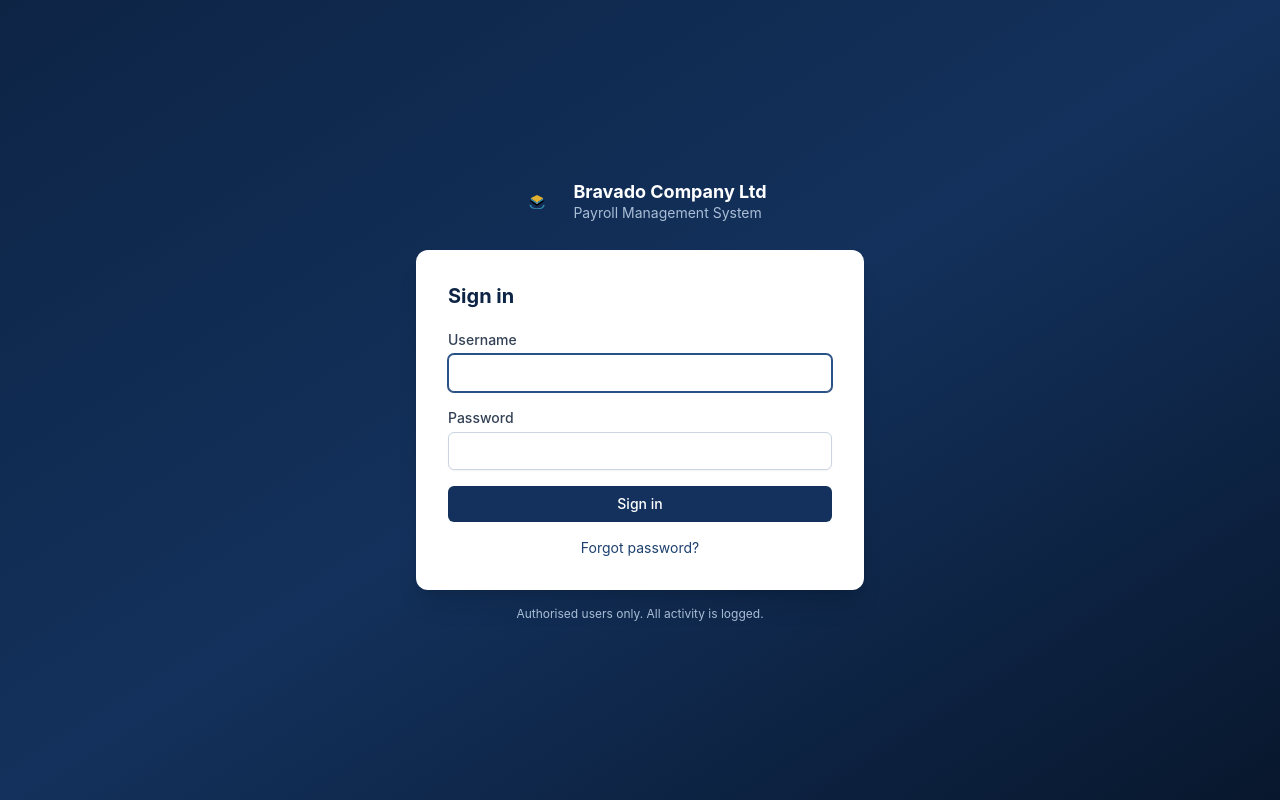
Test: Login page › shows the server error
Type "x" into the field labelled "Username". click: (640, 373)
box: [448, 354, 832, 392]
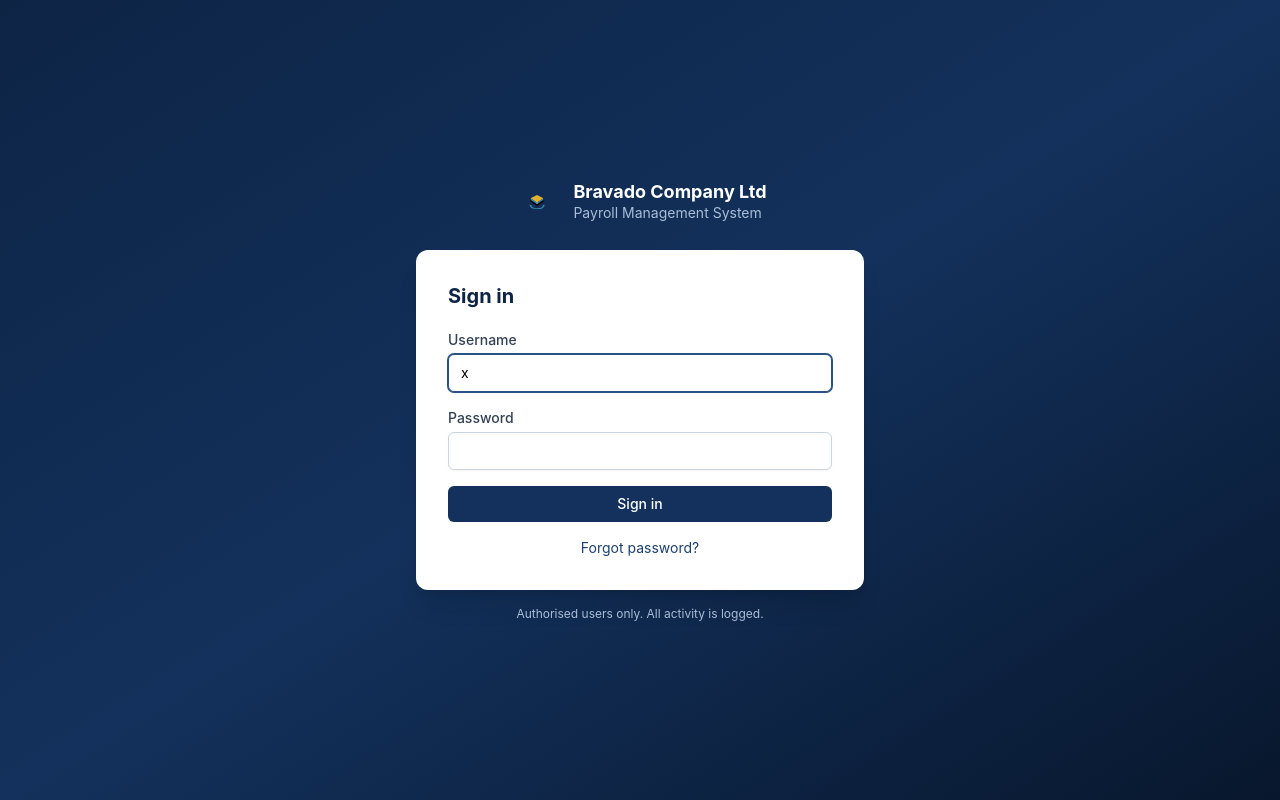
Type "y" into the password field labelled "Password". click: (640, 451)
box: [448, 432, 832, 470]
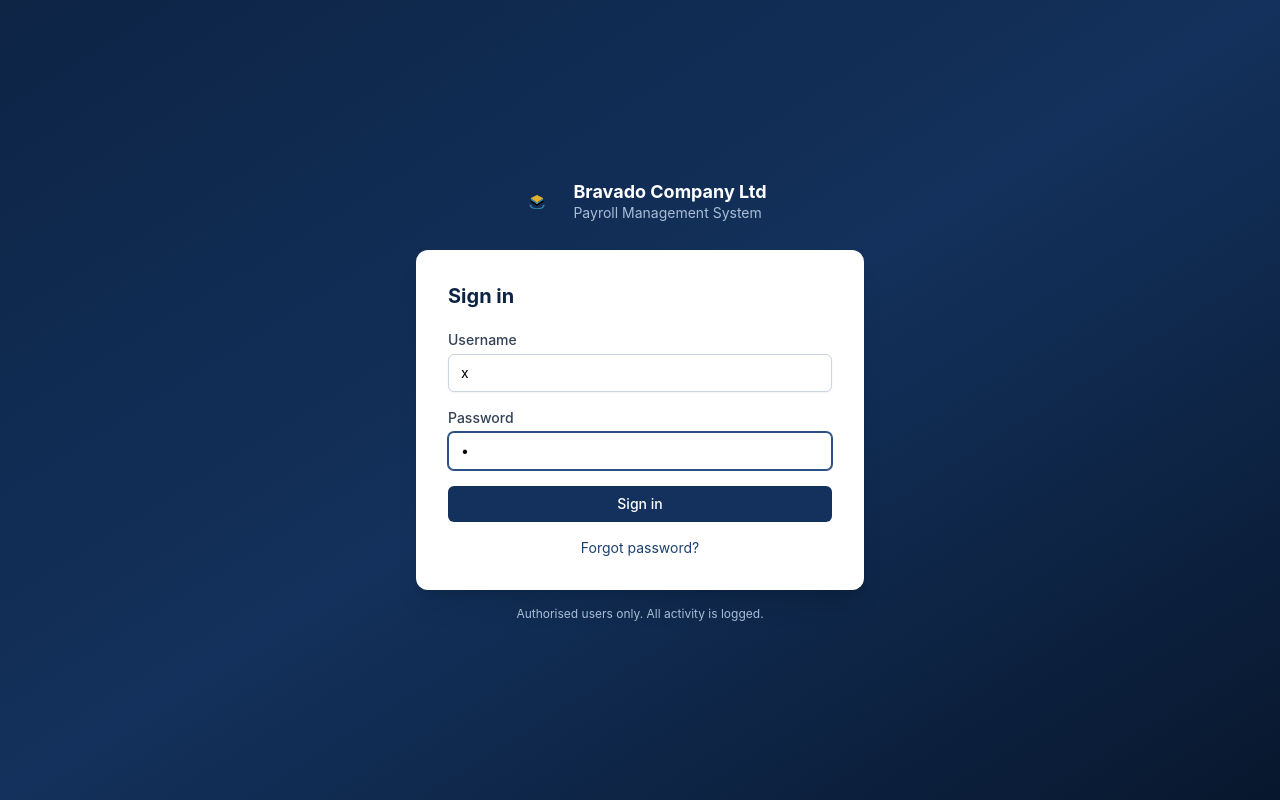
Click the button "Sign in". click: (640, 504)
box: [448, 486, 832, 522]
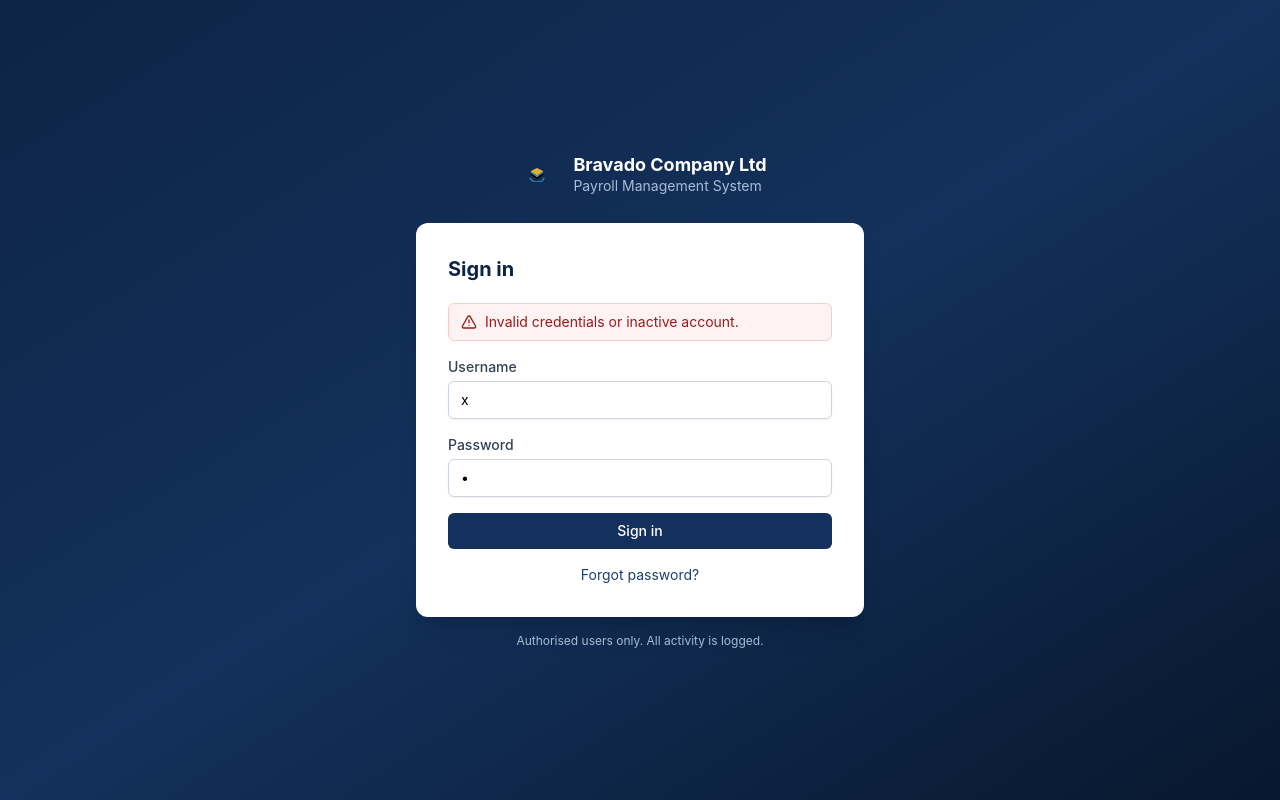
Expected: the message shows "Invalid credentials", [485, 313, 739, 330]
